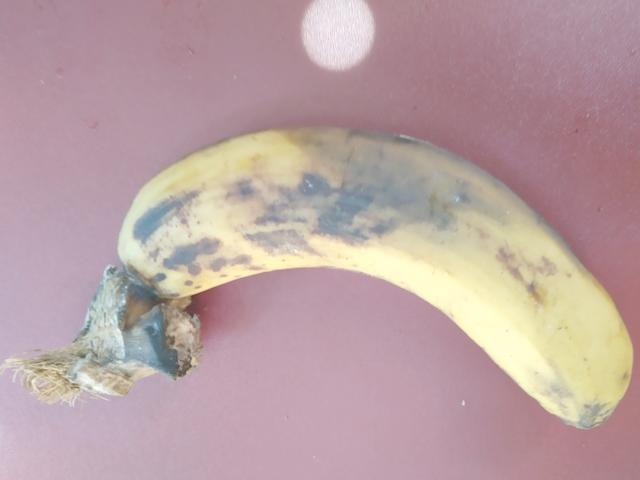overripe: (103, 105, 639, 455)
